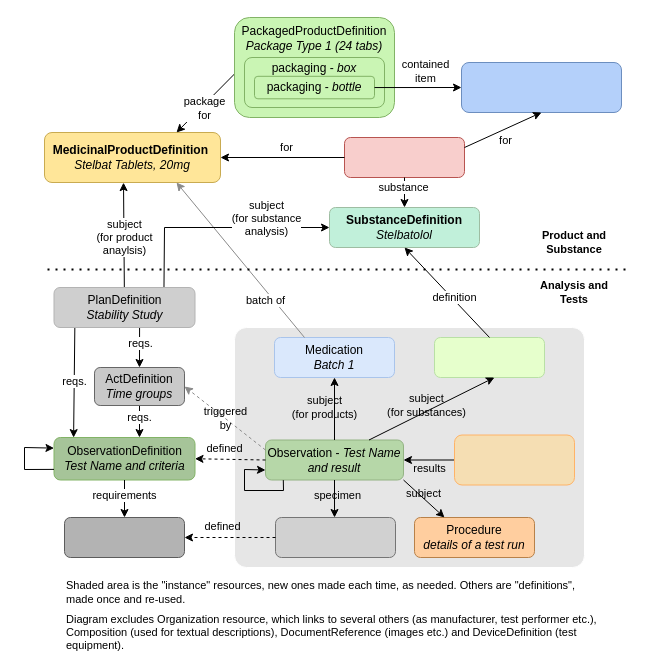
The diagram is 647 pixels wide and 670 high, and some of its shapes have lost their labels. The shapes that lost their labels are listed below. From the top down, each one's centre as x and y in pixels, then its label:
At point 541,87: "ManufacturedItemDefinition Tablet 20mg properties".
At point 404,157: "Ingredient".
At point 489,357: "Substance Batch 1".
At point 514,459: "DiagnosticReport List of values and conclusion".
At point 124,537: "SpecimenDefinition conditions, duration".
At point 335,537: "Specimen date, storage".
